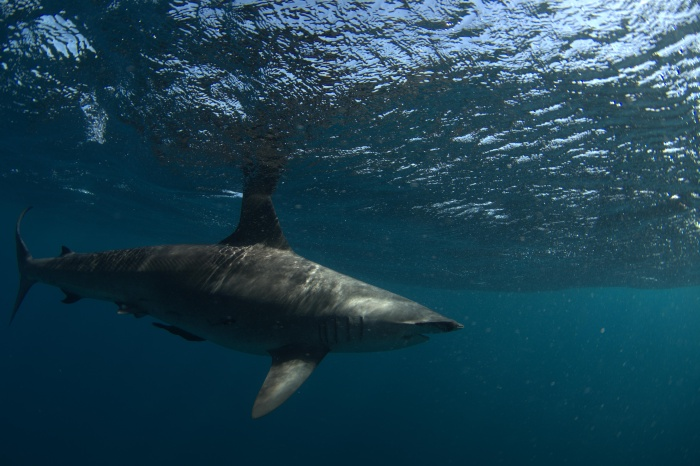Hammer: (1, 159, 478, 436)
